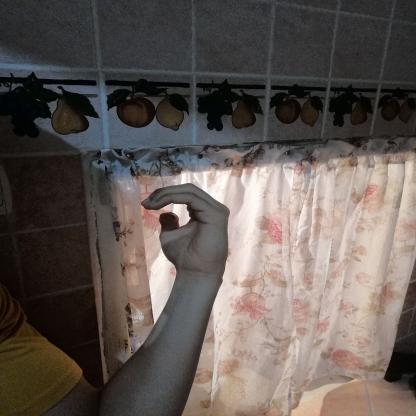JEEM: (130, 170, 244, 279)
